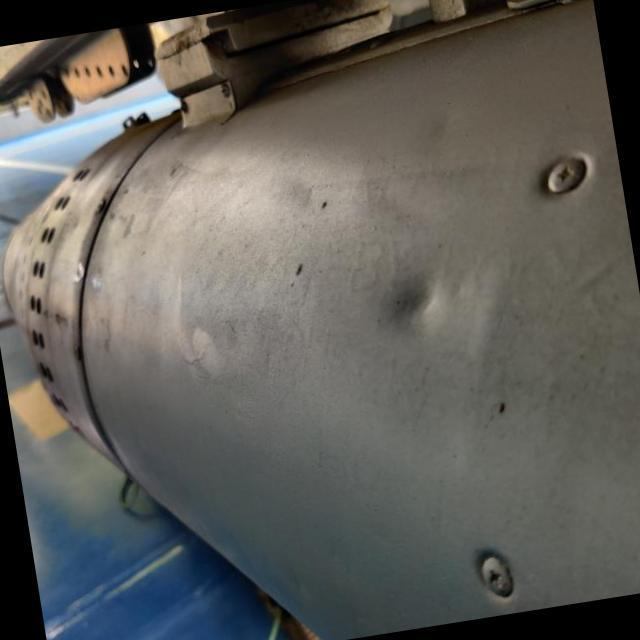Dent: (342, 240, 478, 370)
